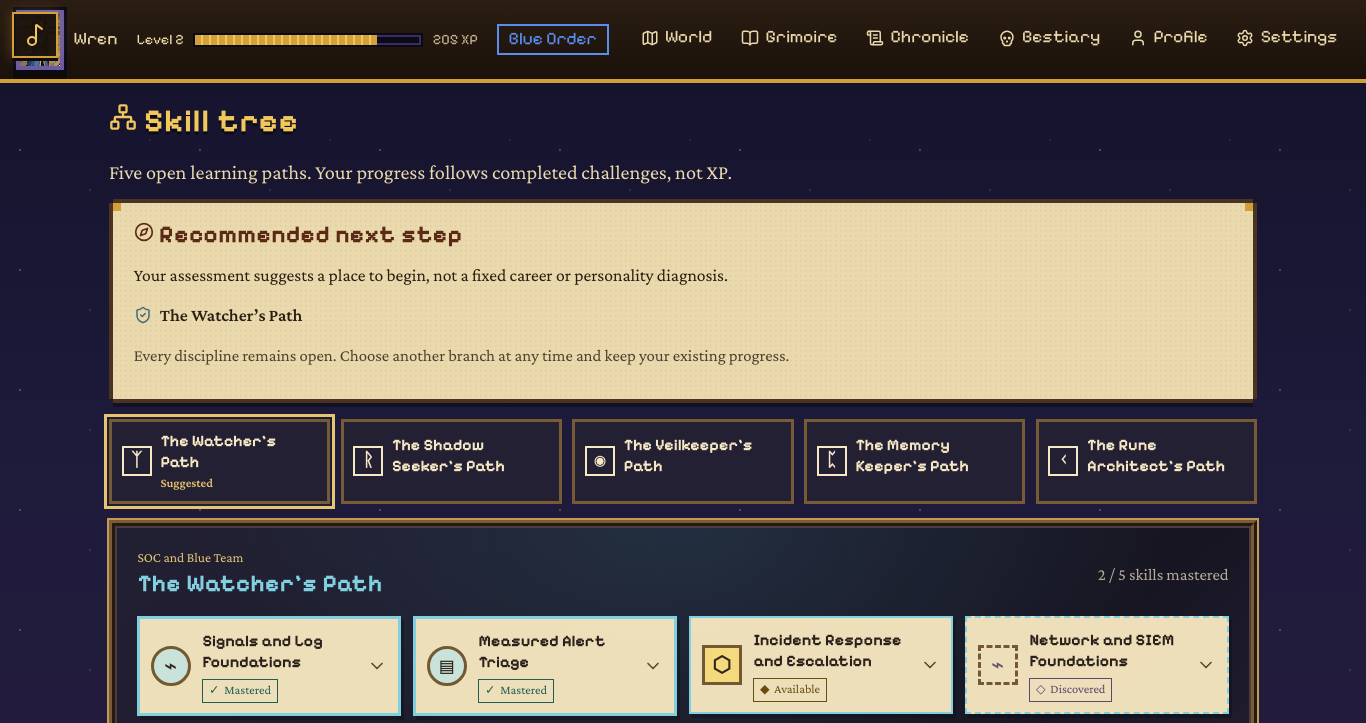
Test: investigation board and demonstrated skills › shows all disciplines, derives mastery from challenge evidence, and lets players explore branches
Expected: the heading "Skill tree" is shown, [109,102,298,140]
Expected: the navigation bar named "Choose a discipline" is shown, [109,419,1257,504]
Step 1. Click the button "ᛈ The Memory Keeper’s Path" → (915, 461), box [804,419,1025,504]
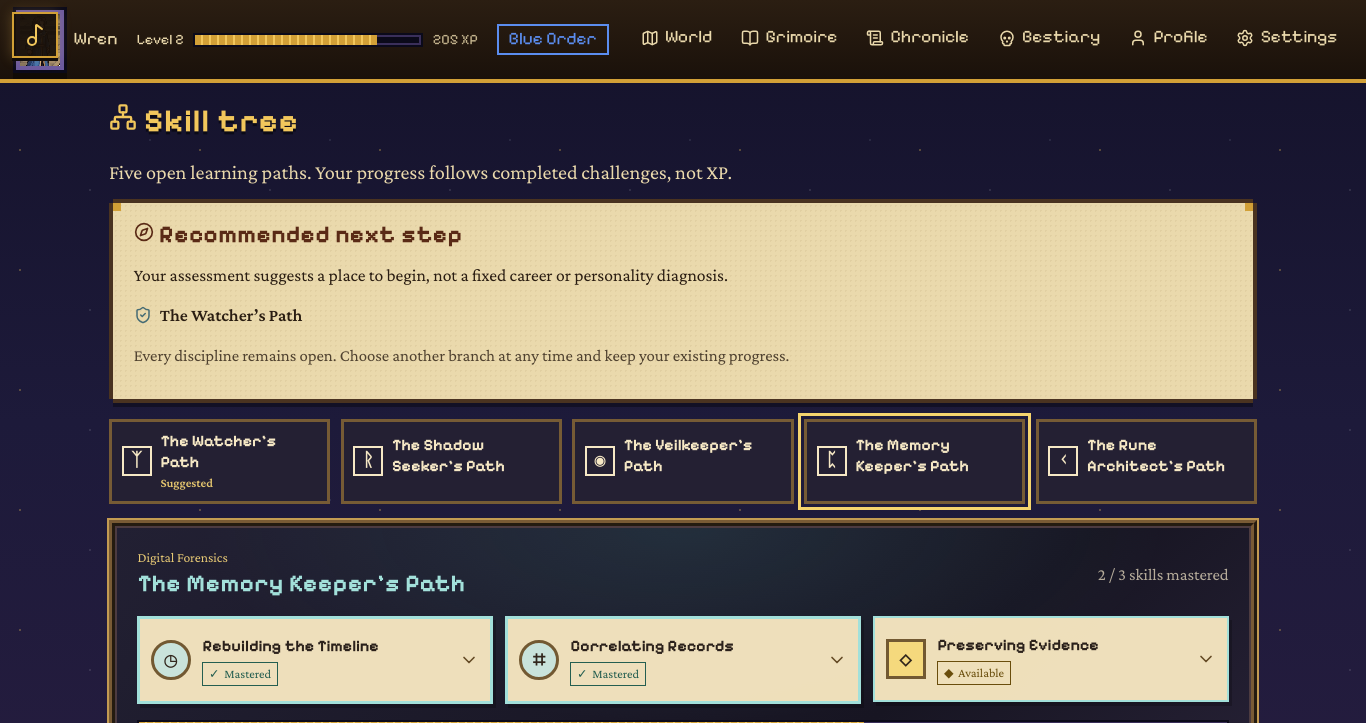
Step 2. Click the button "◷ Rebuilding the Timeline ✓ Mastered" → (171, 660), box [140,619,490,701]
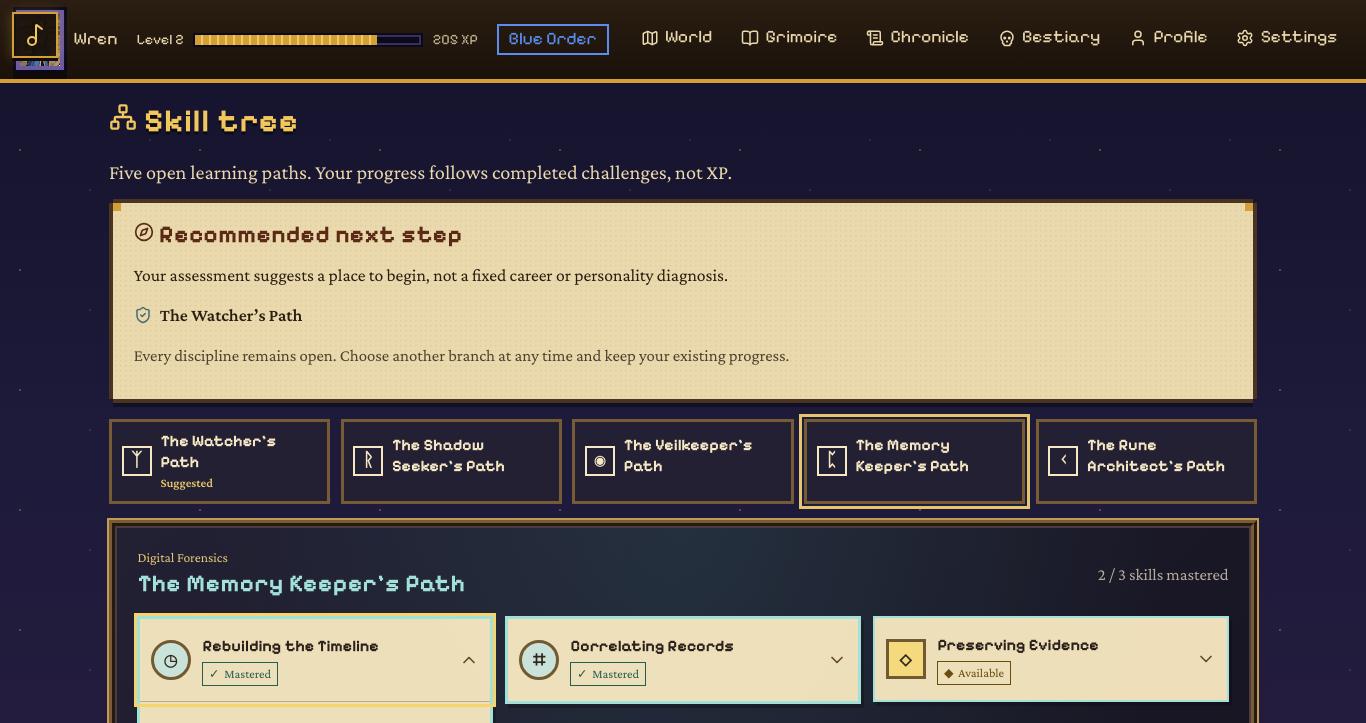
Expected: the 1st text "Mastered" is shown, [224,667,271,681]
Now the button "◷ Rebuilding the Timeline ✓ Mastered" is expanded, box [140,619,490,701]
Step 3. Click the button "◉ The Veilkeeper’s Path" → (683, 461), box [572,419,794,504]
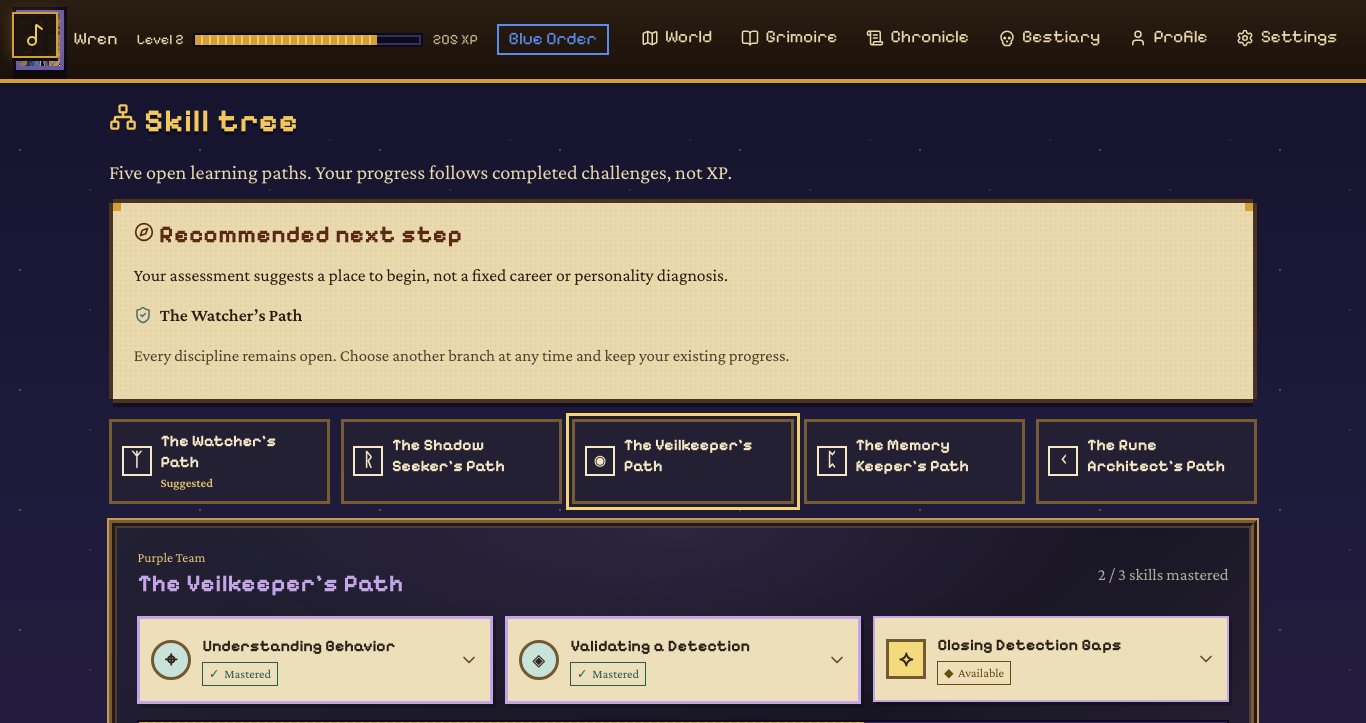
Step 4. Click the button "◈ Validating a Detection ✓ Mastered" → (539, 660), box [508,619,858,701]
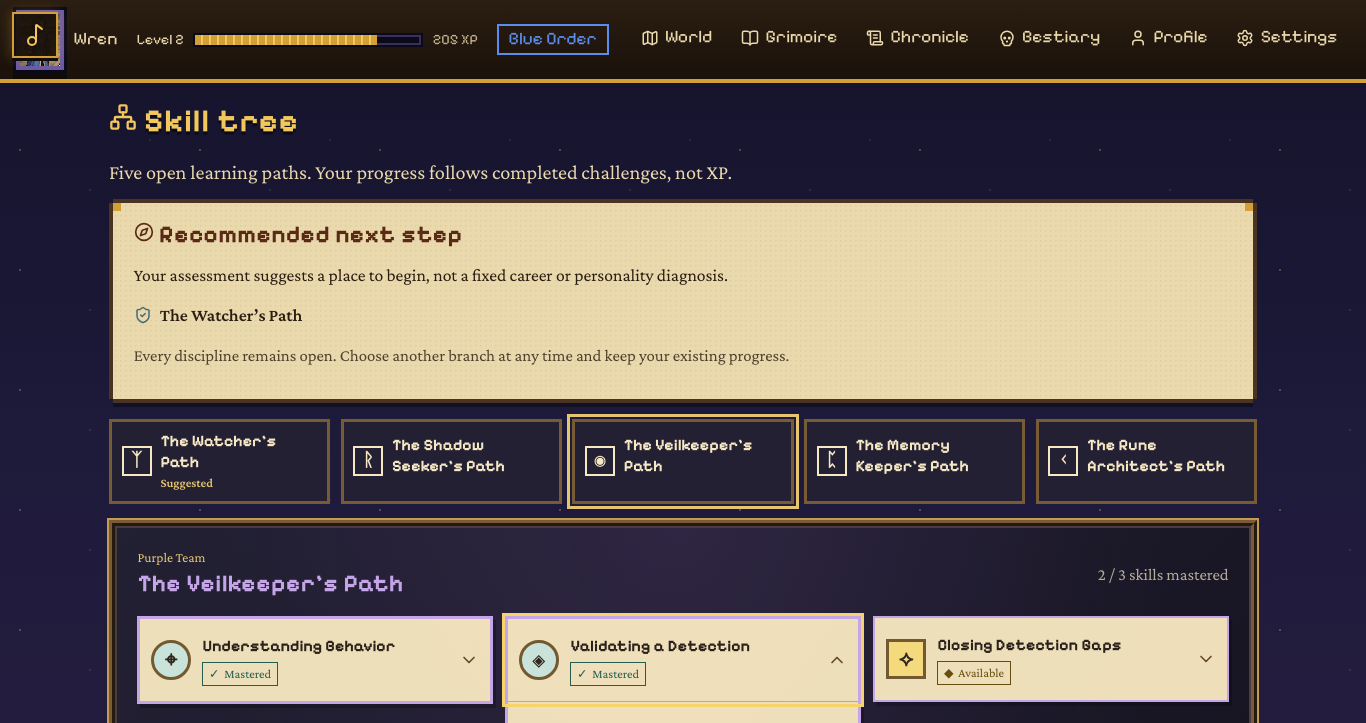
Expected: the 2nd text "Mastered" is shown, [592,667,639,681]
Step 5. Click the button "ᛈ The Memory Keeper’s Path" → (915, 461), box [804,419,1025,504]
(page scrolled)
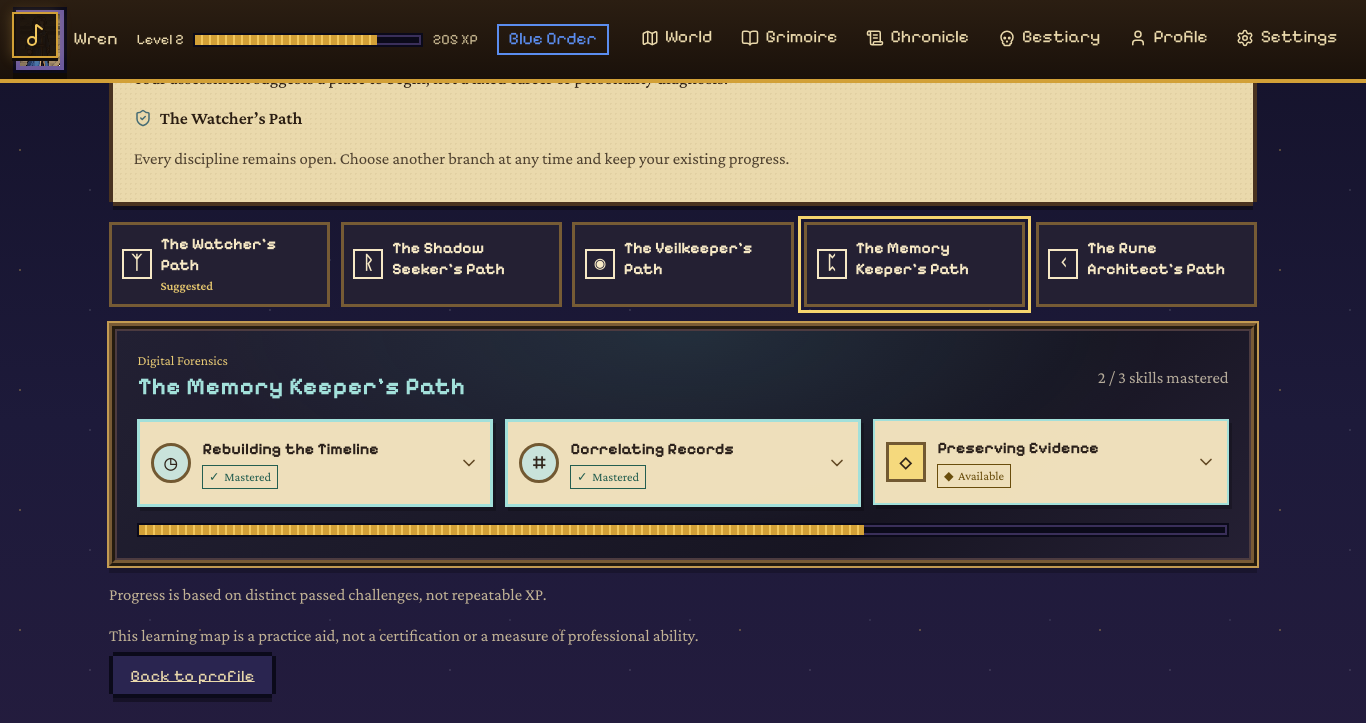
Expected: the text "not a certification" is shown, [109,626,698,645]
Now the button "◷ Rebuilding the Timeline ✓ Mastered" is shown, box [140,422,490,504]
